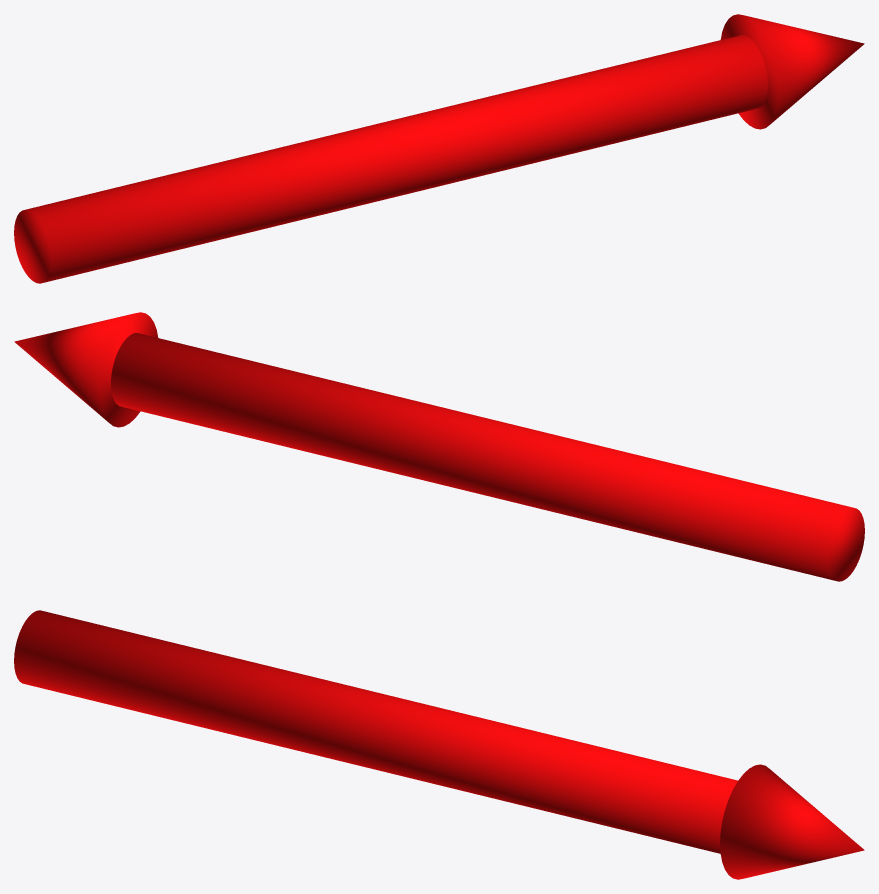
Rendered from gizmo_loc_x.obj.
The picture shows the model from 3 angles, top to bottom: view 1: azimuth 30°, elevation 25°; view 2: azimuth 150°, elevation 25°; view 3: azimuth 330°, elevation 25°; orthographic projection.
Visible parts, largest first — view 1: LocationGizmo; view 2: LocationGizmo; view 3: LocationGizmo.
Part boxes in pixels (x1,y1,x2,y2): LocationGizmo: [14, 14, 864, 283]; LocationGizmo: [14, 312, 864, 581]; LocationGizmo: [14, 610, 864, 879].
Size of the model in its own units: 1.92 by 0.2361 by 0.234.
